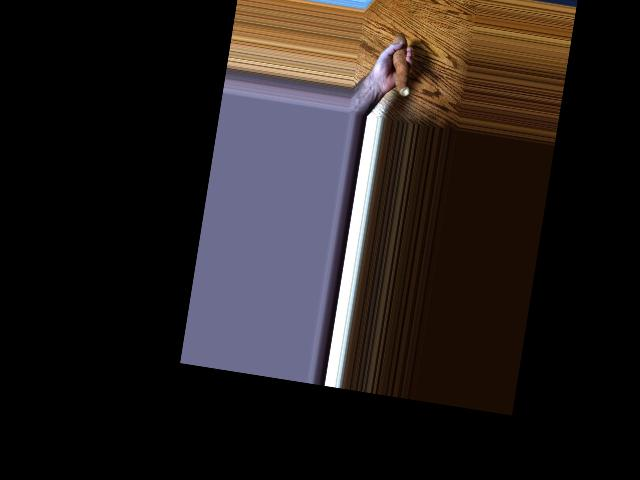sweet_potato: (381, 37, 414, 101)
